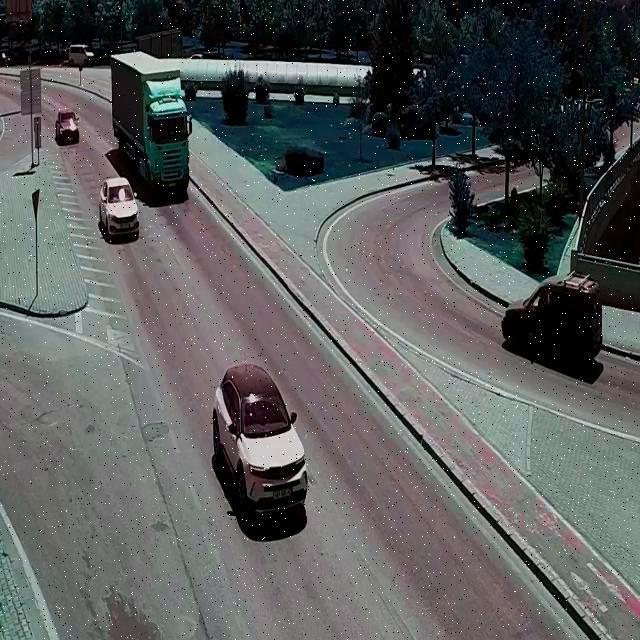Car: (211, 361, 308, 518), (502, 272, 603, 367), (98, 177, 140, 237), (54, 110, 80, 145)
Truck: (110, 50, 194, 197)
Van: (66, 44, 95, 68)
